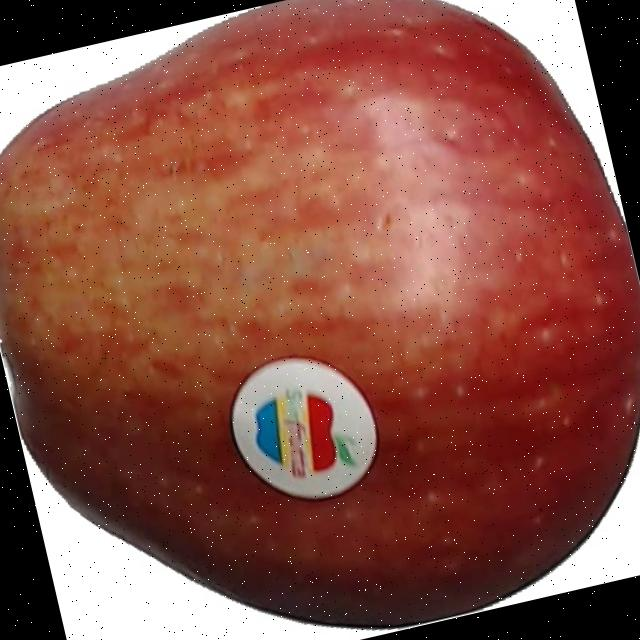apple: (0, 0, 640, 629)
